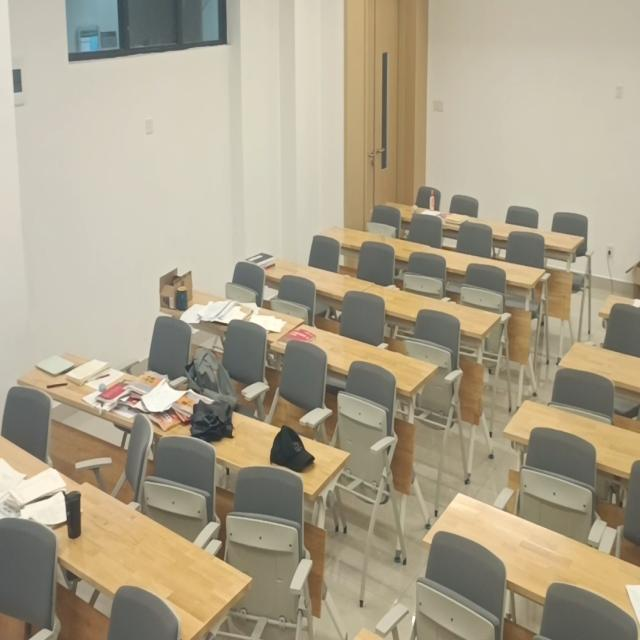Non-empty: (23, 481, 254, 640), (160, 393, 345, 496), (16, 352, 191, 434), (272, 322, 439, 397), (162, 279, 302, 344), (2, 432, 83, 521), (243, 248, 374, 302), (380, 200, 488, 229)
empty: (423, 486, 638, 634), (504, 396, 638, 482), (357, 284, 500, 338), (420, 249, 546, 291), (556, 338, 636, 387)
